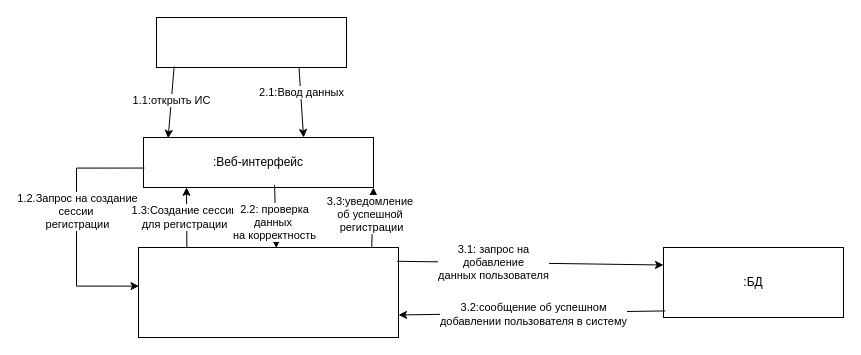
This 861x355 diagram has some shape labels left out. The centre of each missing label's shape, as x and y in pixels:
":Пользователь" belongs at point 251,42.
":Сервер" belongs at point 268,292.
